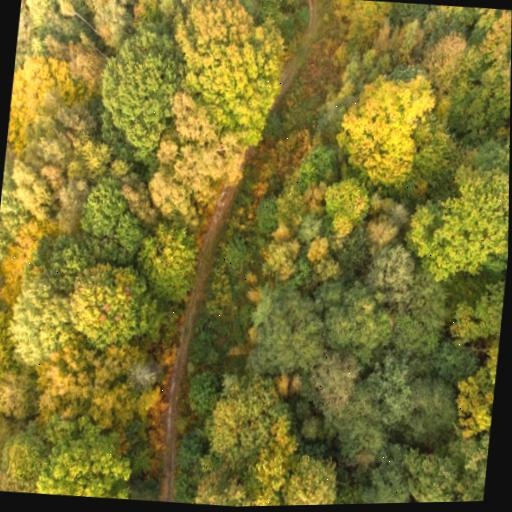tree-top: (330, 68, 438, 193), (90, 32, 184, 171), (195, 36, 285, 152), (405, 187, 509, 287), (153, 112, 250, 209), (35, 413, 132, 502), (248, 282, 327, 386), (63, 260, 152, 351), (6, 51, 85, 153), (205, 379, 292, 466), (437, 52, 511, 149), (130, 215, 205, 304), (73, 175, 151, 255), (10, 284, 75, 371), (396, 367, 460, 455), (35, 340, 96, 429), (10, 138, 72, 222), (414, 434, 489, 503), (320, 287, 393, 354), (172, 0, 249, 60), (26, 227, 86, 304), (86, 342, 143, 423), (15, 0, 87, 63), (450, 337, 499, 429), (276, 444, 344, 506), (336, 388, 387, 469), (392, 284, 446, 353), (405, 123, 461, 188), (370, 353, 418, 428), (1, 419, 54, 485), (453, 278, 505, 345), (358, 454, 421, 504), (2, 216, 47, 283), (187, 462, 249, 508), (371, 241, 417, 302), (312, 354, 361, 411), (321, 172, 367, 230), (0, 172, 28, 267), (333, 224, 376, 284), (427, 337, 478, 387), (76, 0, 129, 48), (340, 0, 391, 40), (301, 140, 344, 186), (0, 369, 36, 423), (258, 0, 309, 36), (282, 85, 321, 130), (221, 238, 257, 285), (186, 370, 222, 411), (0, 311, 16, 401), (253, 193, 287, 233), (367, 211, 399, 250), (304, 230, 334, 267), (132, 471, 163, 502), (295, 214, 322, 245), (0, 468, 28, 493), (0, 400, 5, 465)
